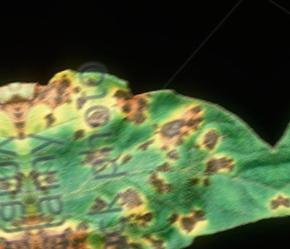Tomato Septoria leaf spot: (11, 27, 288, 249)
